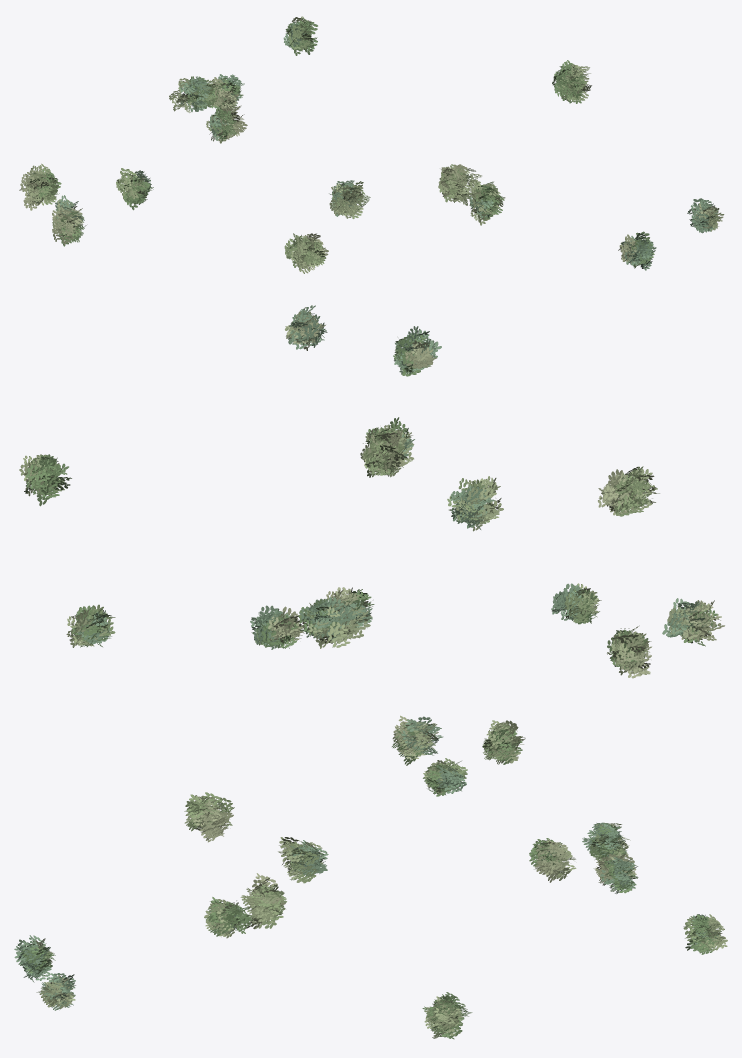
File: campus-tree--1_-2-far-photo.glb
3 renders of one model, top to bottom at view 1: azimuth 30°, elevation 25°; view 2: azimuth 150°, elevation 25°; view 3: azimuth 270°, elevation 25°, orthographic. The views are drawn at different scales.
Parts seen in each view (by area): view 1: Campus leaf canopy; view 2: Campus leaf canopy; view 3: Campus leaf canopy.
Part boxes in pixels (left/top/right/bottom): Campus leaf canopy: left=19, top=16, right=724, bottom=273; Campus leaf canopy: left=19, top=305, right=724, bottom=678; Campus leaf canopy: left=14, top=715, right=727, bottom=1039.
Bounding box in the file's own units: 81.05 × 7.63 × 80.72.
Materials: 1 (1 with a texture image).
